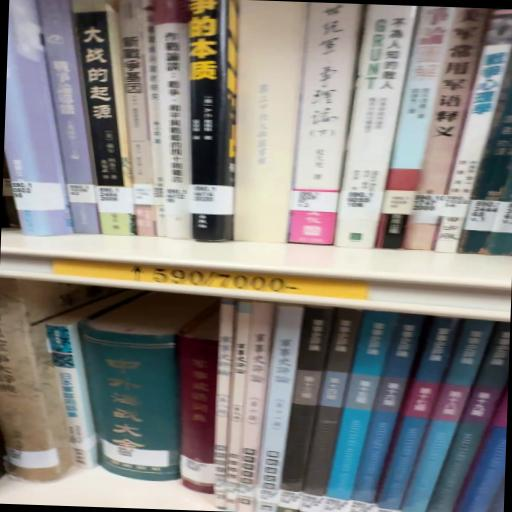backward: (233, 1, 306, 244)
book: (334, 4, 419, 251), (227, 3, 305, 251), (2, 1, 82, 239), (34, 1, 114, 235), (291, 3, 367, 248), (387, 319, 463, 512), (351, 317, 418, 510), (341, 307, 396, 501)
